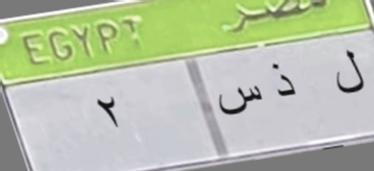2: (84, 92, 128, 140)
laam: (329, 42, 366, 114)
seen: (216, 79, 263, 123)
zaal: (267, 52, 303, 105)
